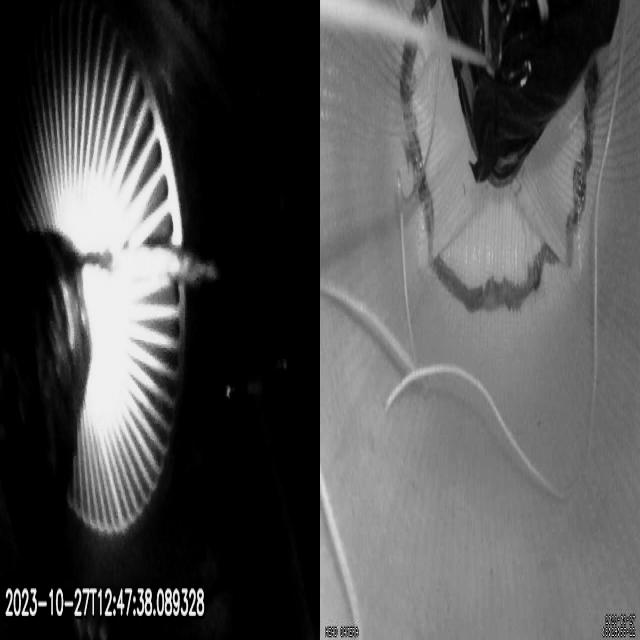red-circle: (400, 2, 600, 310)
